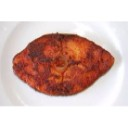seerfish: (14, 32, 114, 95)
